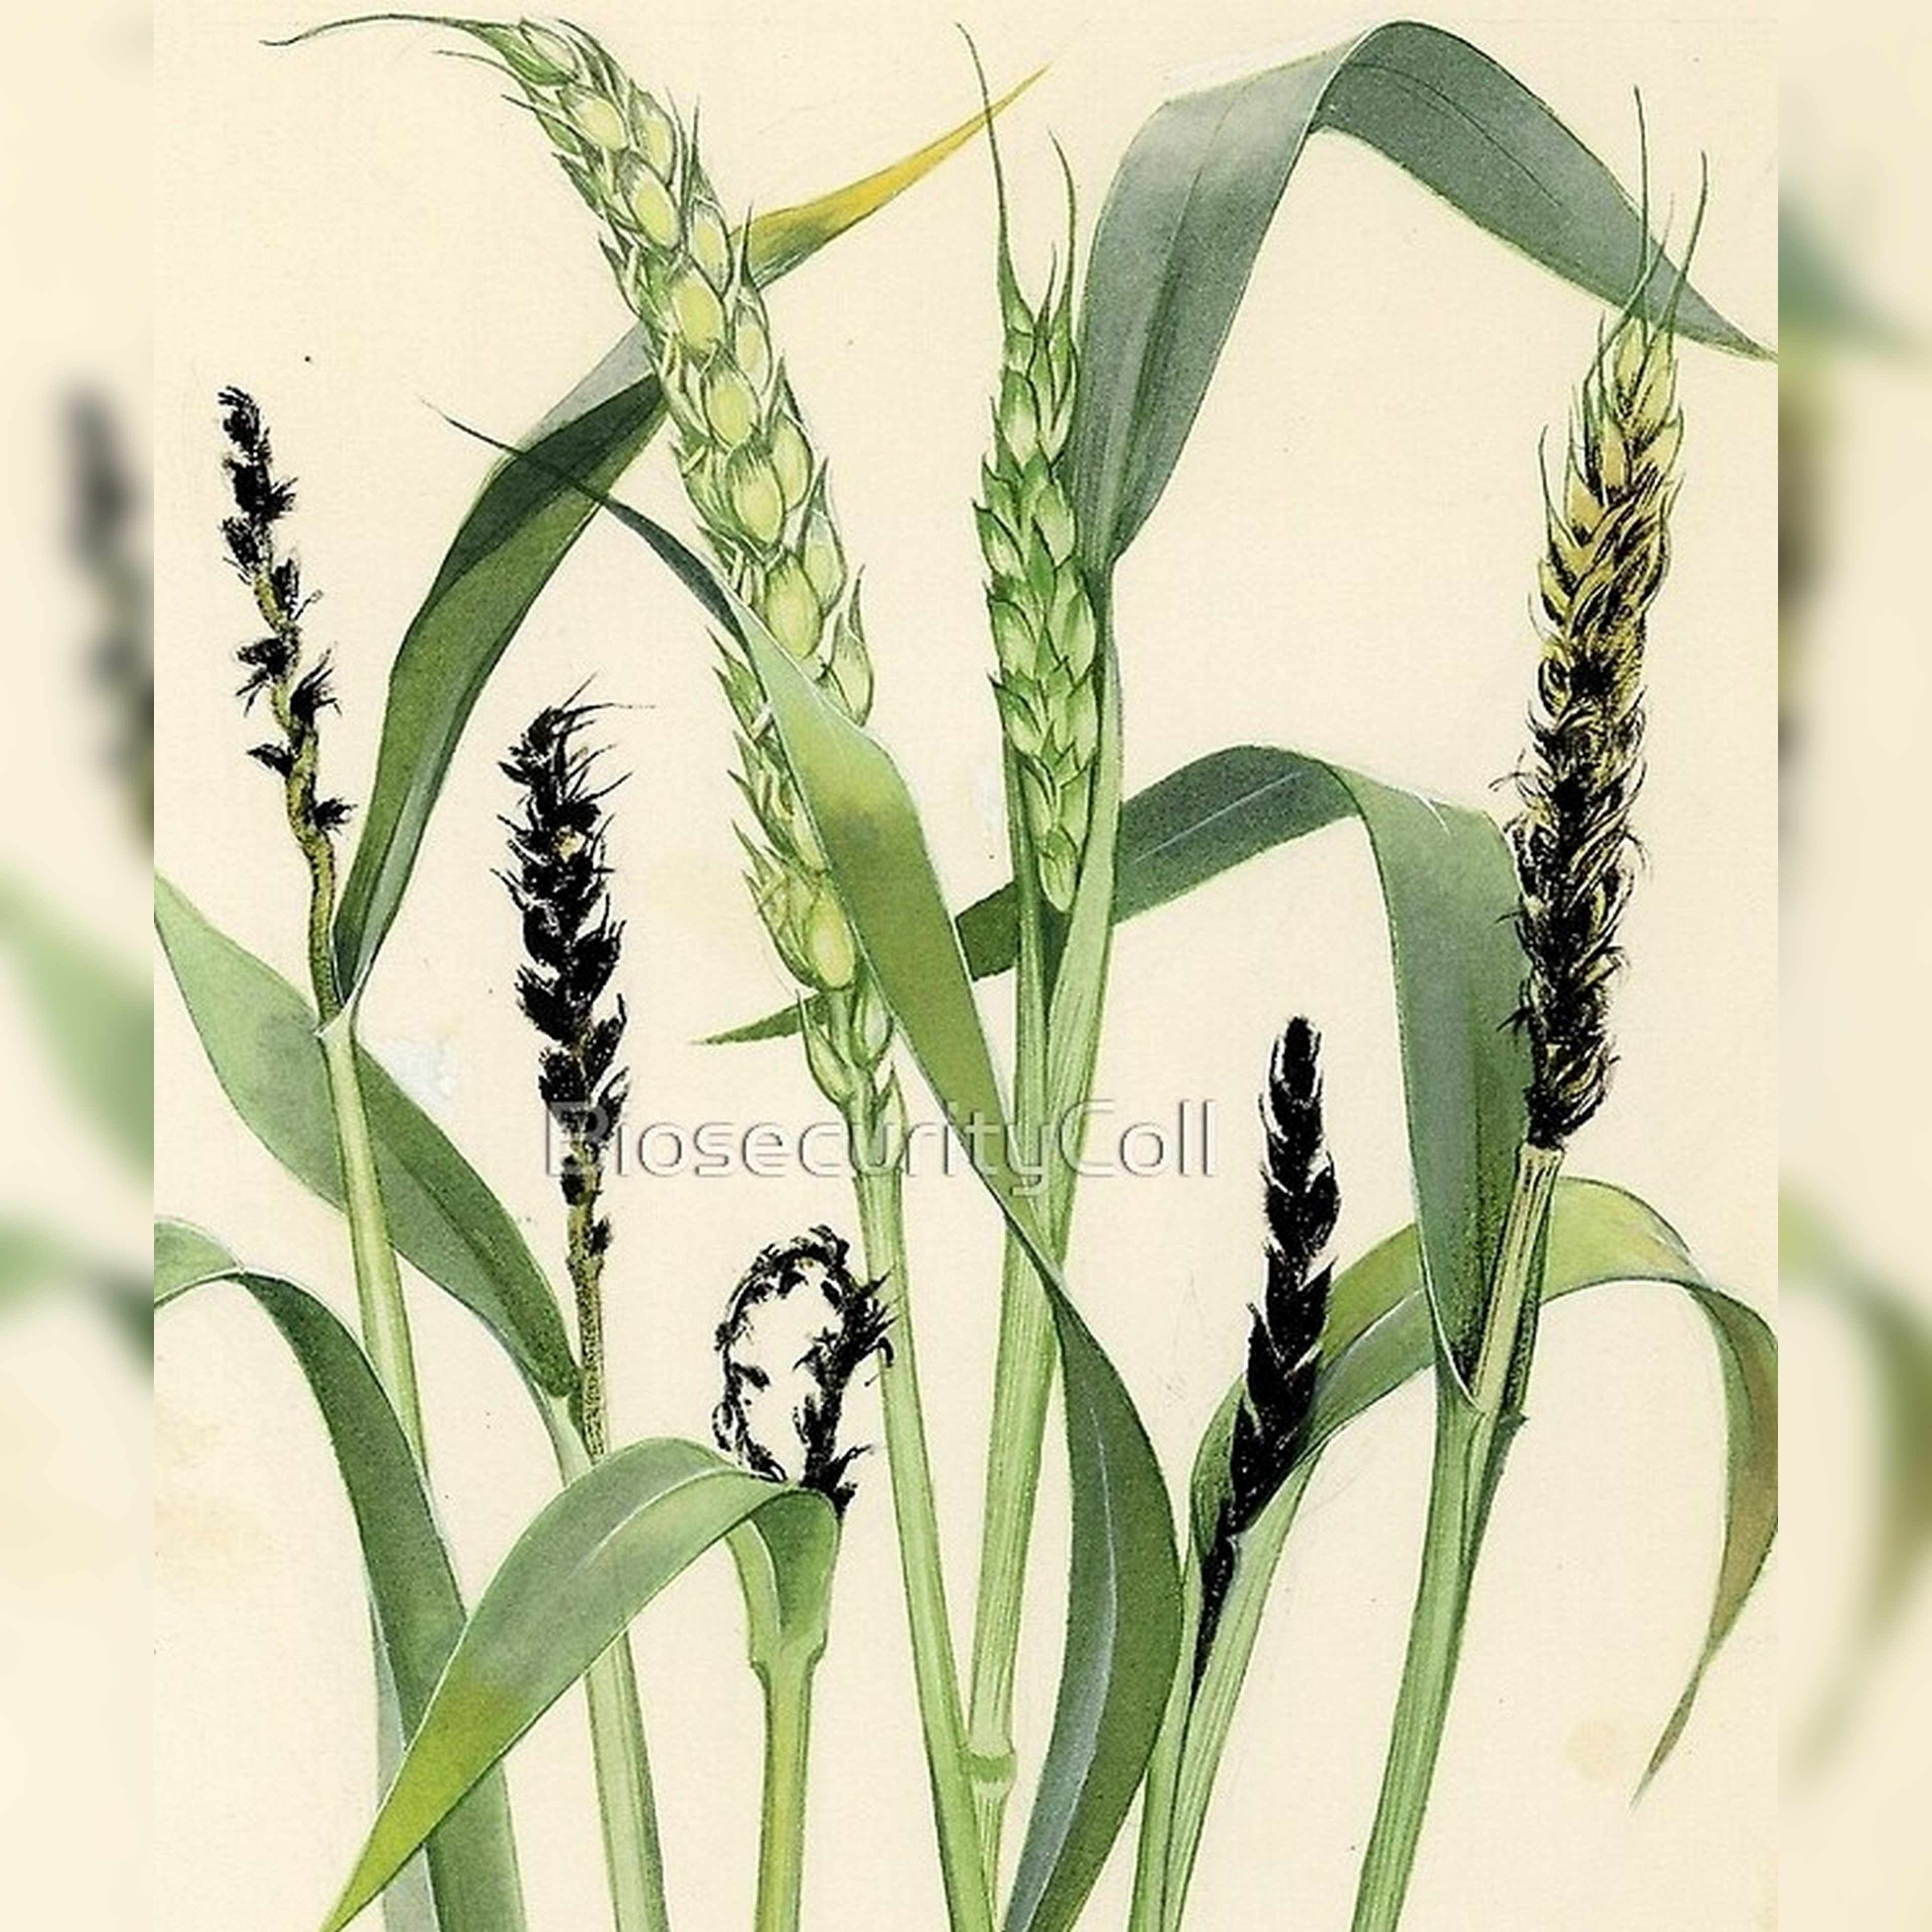Wheat Loose Smut: (478, 704, 663, 1146), (1247, 1017, 1368, 1516)
